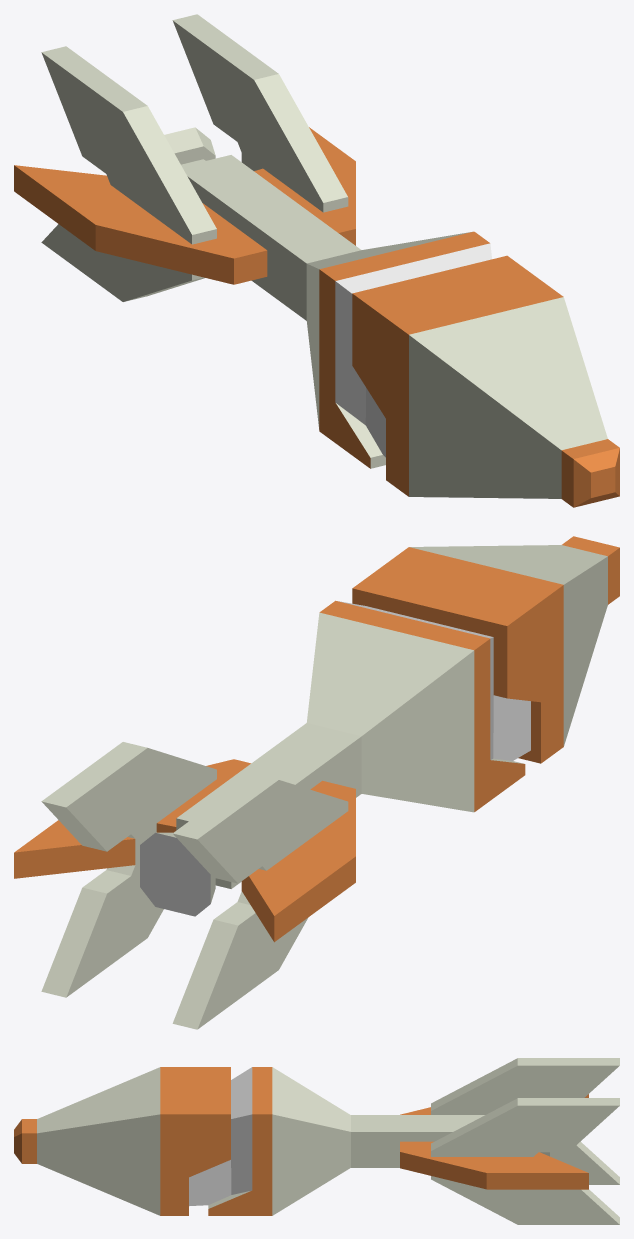
The model's file is rocket.fbx.
3 views of the same model, one above another, from view 1: azimuth 30°, elevation 25°; view 2: azimuth 150°, elevation 25°; view 3: azimuth 270°, elevation 25° (orthographic). The views are drawn at different scales.
Visible parts, largest first — view 1: torpedo; view 2: torpedo; view 3: torpedo.
Boxes of the visible parts, x1,y1,x2,y2 form: torpedo: (14,14,619,507); torpedo: (14,536,619,1029); torpedo: (14,1058,619,1224).
Bounding box in the file's own units: 0.168 × 0.1173 × 0.5406.
